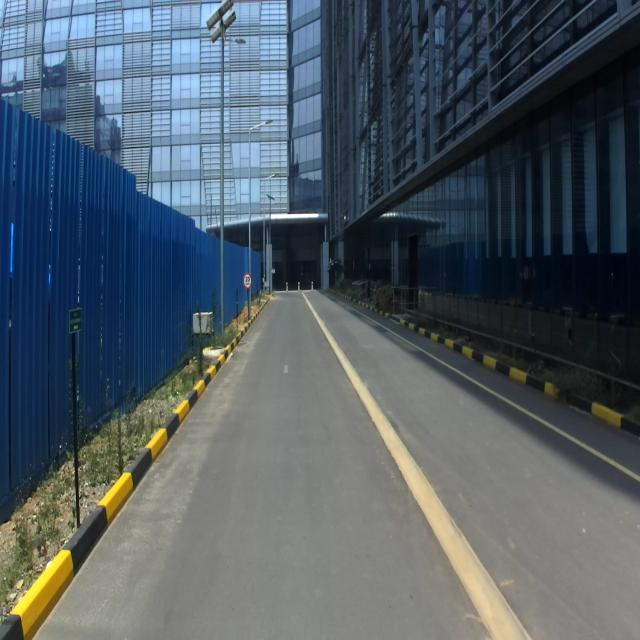sign board ahead at: (242, 268, 253, 291)
